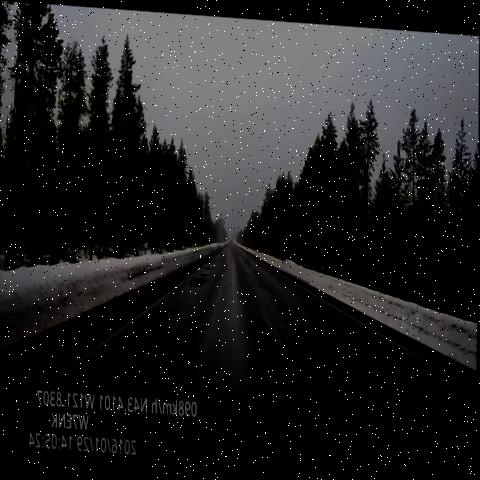pothole: (185, 267, 211, 291), (201, 261, 219, 274)
